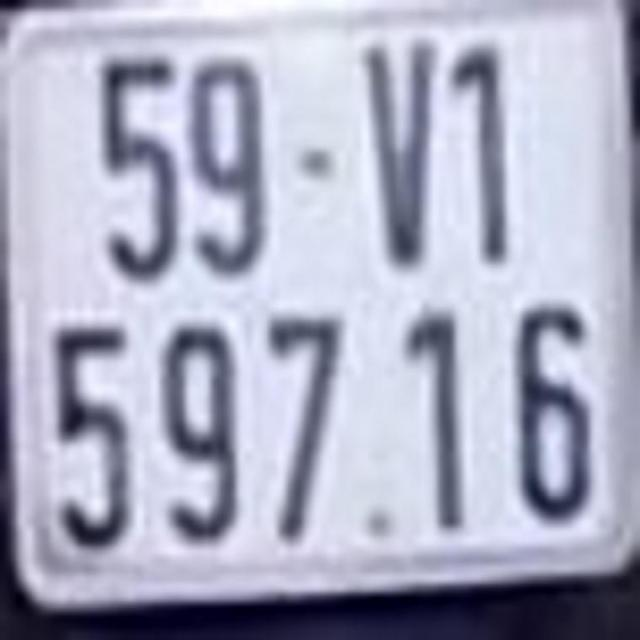1: (402, 296, 477, 535), (444, 40, 519, 265)
5: (48, 320, 135, 554), (96, 56, 180, 281)
6: (506, 290, 596, 522)
7: (263, 302, 341, 534)
9: (155, 313, 239, 546), (182, 53, 269, 272)
V: (360, 36, 438, 268)
